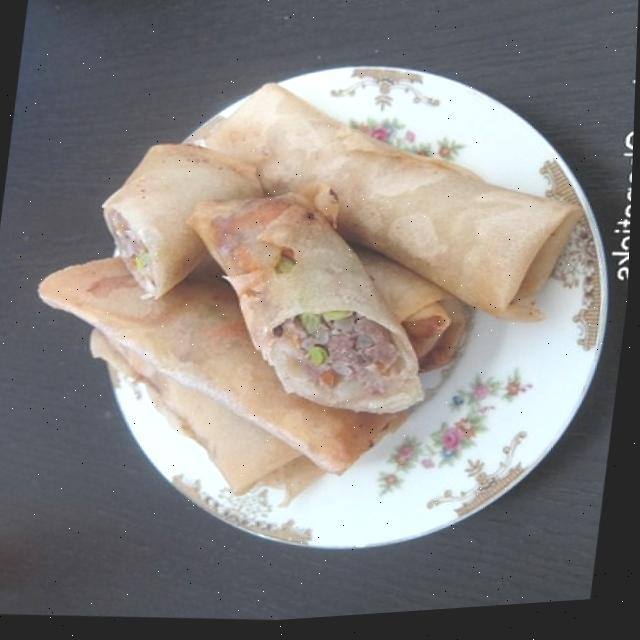炸货点心: (11, 35, 604, 566)
